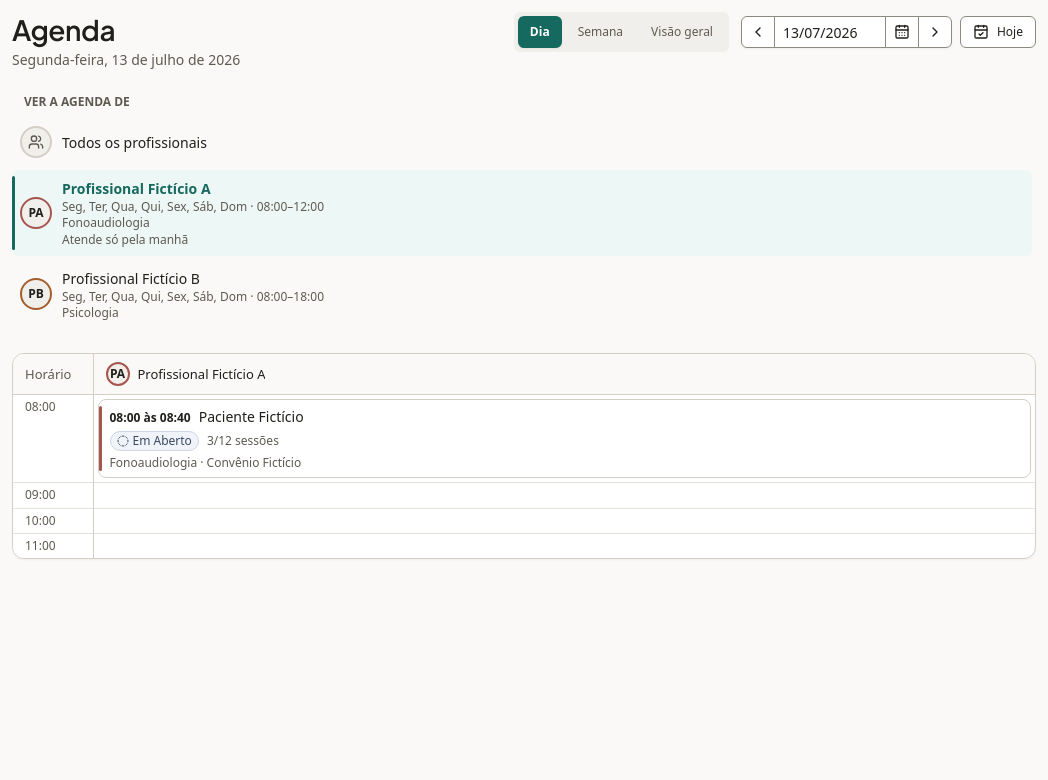
Scenario: Agenda — grade e visões › deve trocar de período pelos controles de data
Expected: the table is shown, [13,354,1035,558]
Click the button named "Próximo período" at (935, 32), box [918,16,952,48]
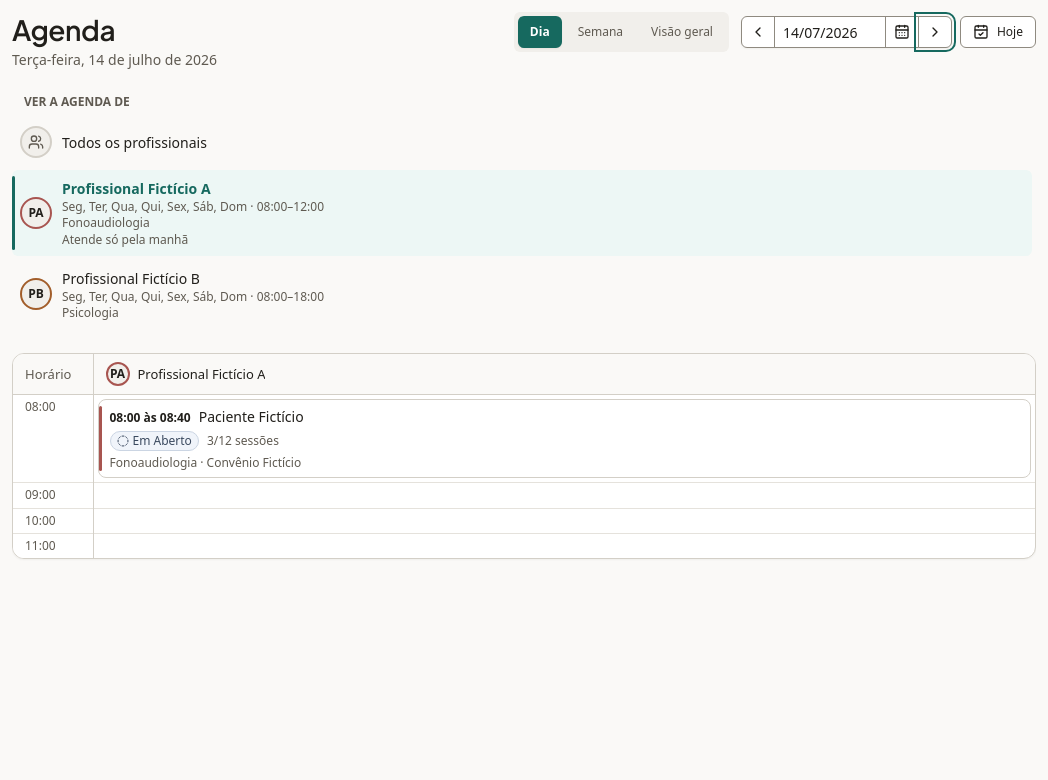
Expected: the field named "Data da agenda" holds "14/07/2026", [774,16,886,48]
